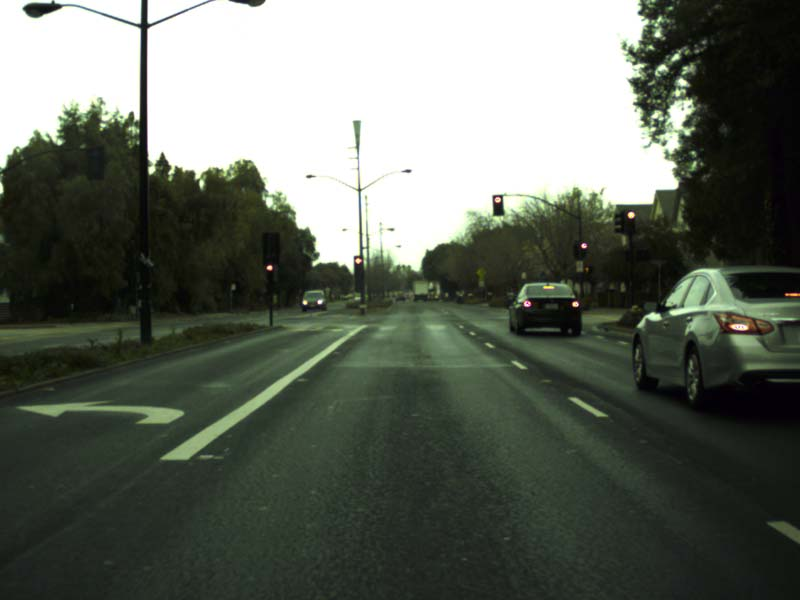Red: (265, 263, 275, 289), (354, 255, 364, 280), (492, 195, 504, 214), (626, 210, 634, 233), (580, 242, 586, 257)
